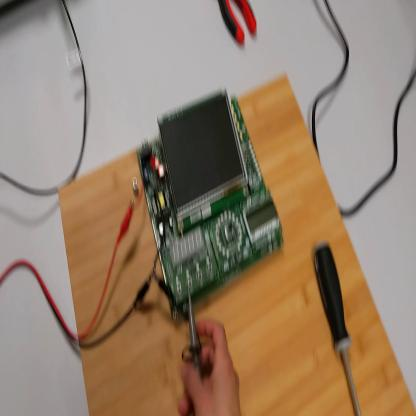hand: (179, 316, 243, 416)
low voltage board: (137, 90, 285, 316)
oscilloscope probe tip: (188, 295, 203, 393)
pliers: (220, 1, 259, 47)
screwdriver-: (316, 243, 362, 415)
working area: (58, 75, 416, 414)
